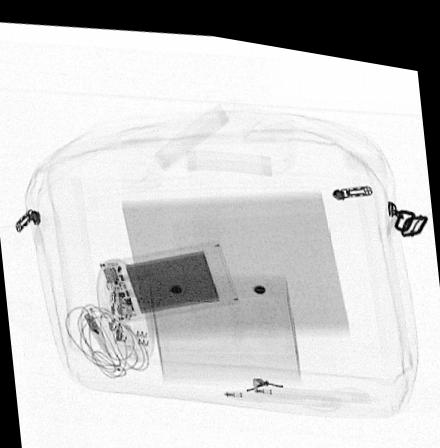Powerbank: (99, 231, 240, 319)
